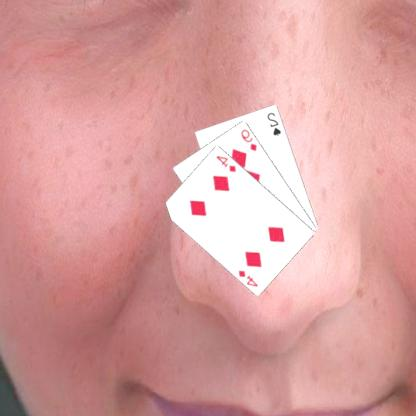2S: (266, 110, 284, 137)
4D: (215, 152, 239, 173), (237, 267, 261, 288)
9D: (240, 126, 260, 152)
